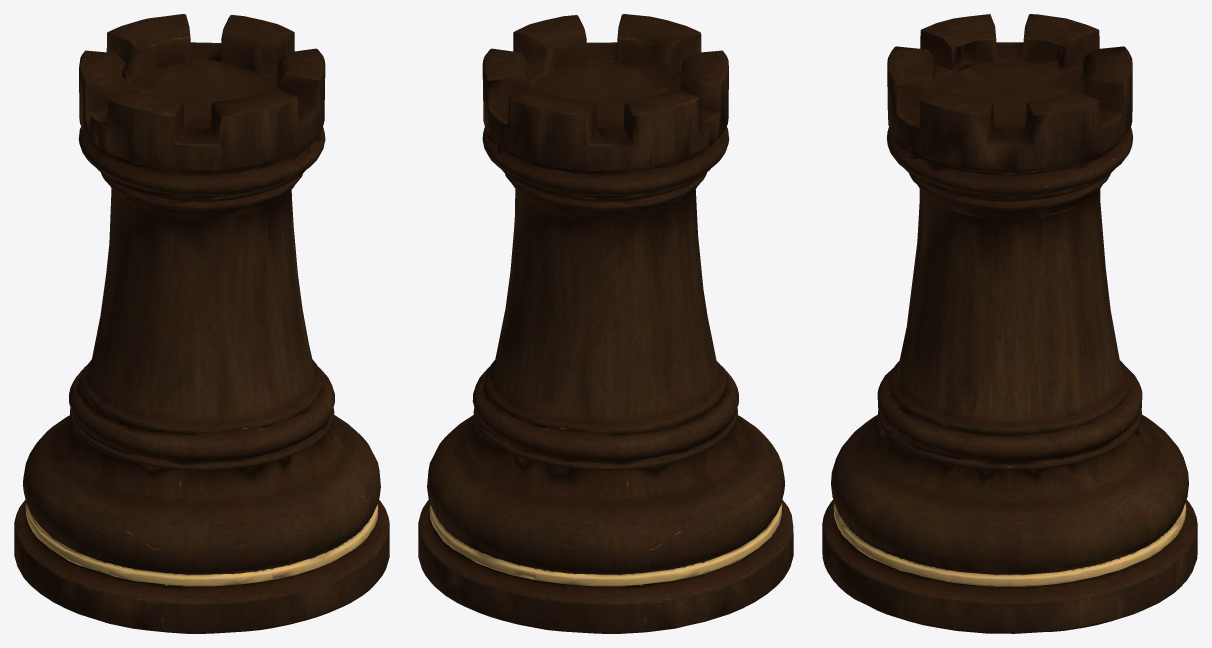
File: rook_dark.glb
3 views of the same model, side by side, from view 1: azimuth 30°, elevation 25°; view 2: azimuth 150°, elevation 25°; view 3: azimuth 270°, elevation 25° (orthographic).
Parts seen in each view (by area): view 1: geometry_0; view 2: geometry_0; view 3: geometry_0.
Boxes of the visible parts, left/top/right/bottom form: geometry_0: left=14, top=14, right=389, bottom=633; geometry_0: left=418, top=14, right=793, bottom=633; geometry_0: left=822, top=14, right=1197, bottom=633.
Bounding box in the file's own units: 0.5658 × 0.8199 × 0.5662.
1 material, 1 textured.
